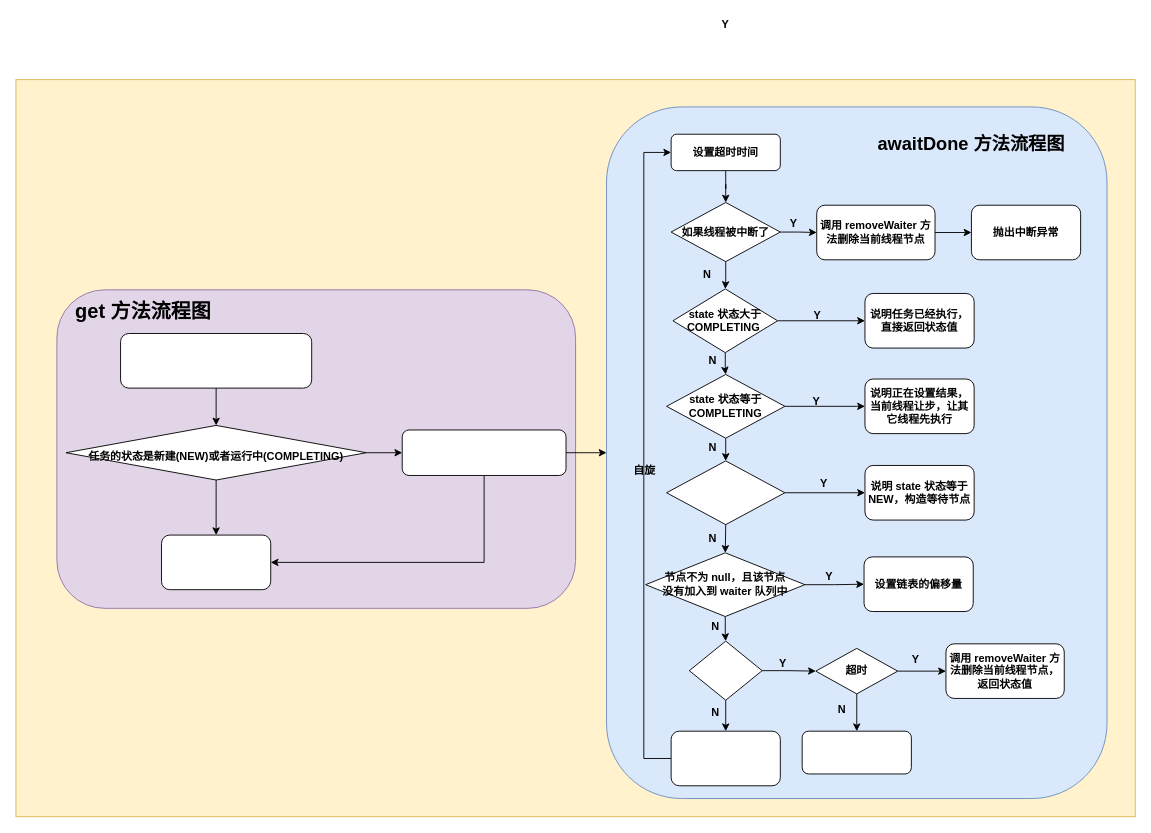
This 1151x833 diagram has some shape labels left out. The centre of each missing label's shape, as x and y in pixels:
"一直阻塞，直到被中断或者被唤醒" belongs at pixel 725 758.
"当前等待节点为空" belongs at pixel 725 492.
"执行 awaitDone 方法等待获取" belongs at pixel 483 452.
"获取当前 FutureTask 对象的状态" belongs at pixel 216 360.
"设定超时" belongs at pixel 725 670.
"返回执行结果" belongs at pixel 216 562.
"阻塞到超时时间" belongs at pixel 856 752.
